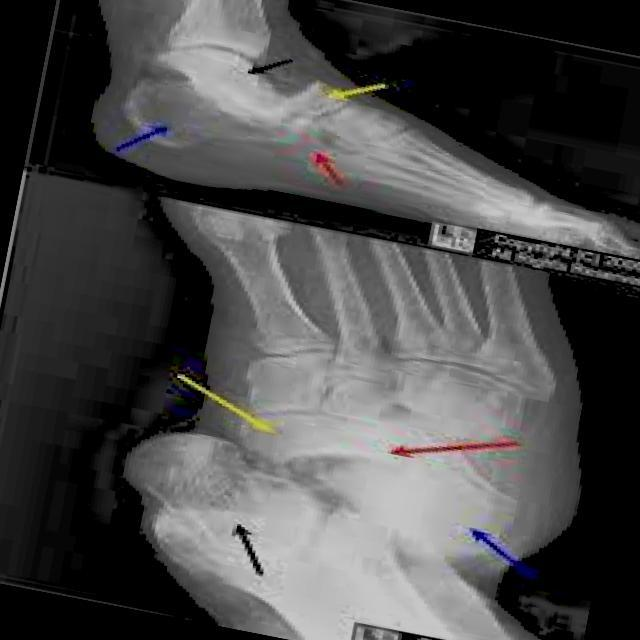Fracture Dislocation: (152, 436, 249, 520), (286, 442, 366, 483), (141, 90, 204, 133), (191, 62, 244, 87)
